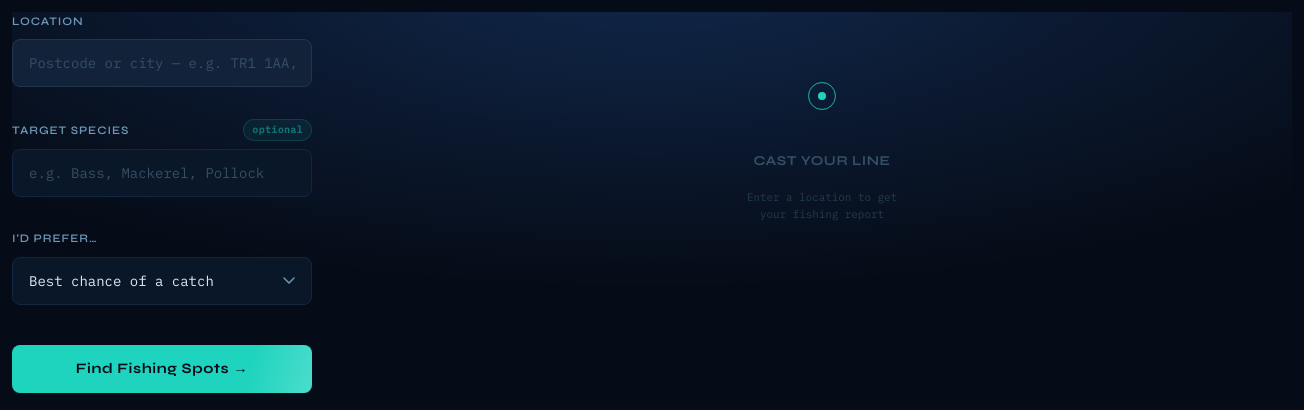
Test: FishingForm › success state › renders ResultsPanel with the harbour name after a successful response
This screenshot has width=1304, height=410.
Type "TR1 1AA" into the field labelled "Location" at (162, 63), box [12,39,312,87]
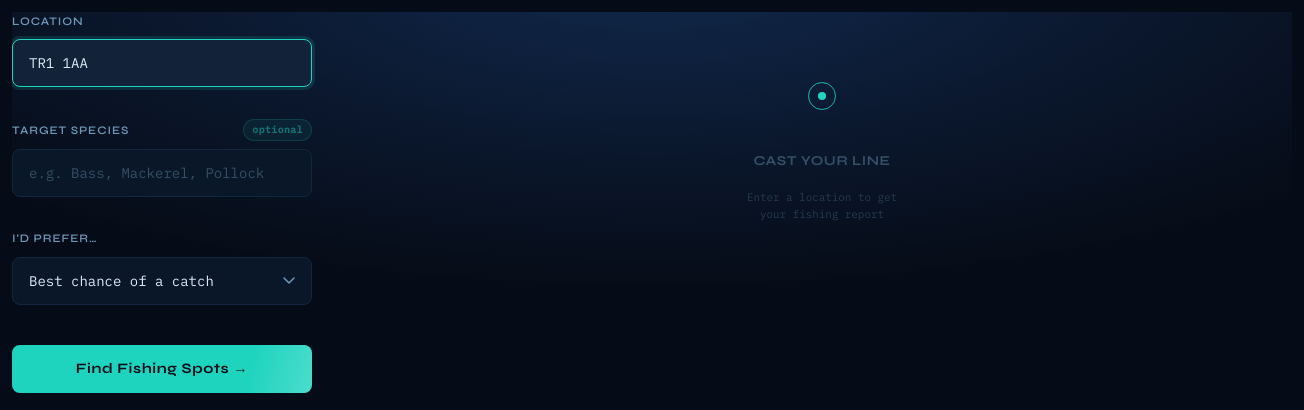
Click the button "Find Fishing Spots →" at (162, 369), box [12,345,312,393]
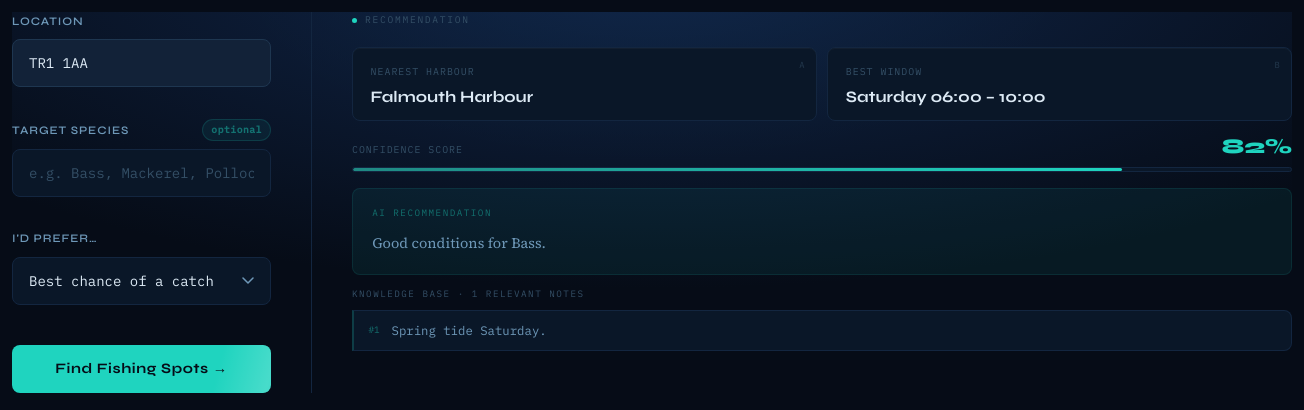
Check: the text "Falmouth Harbour" is shown, box [371,87,533,106]
